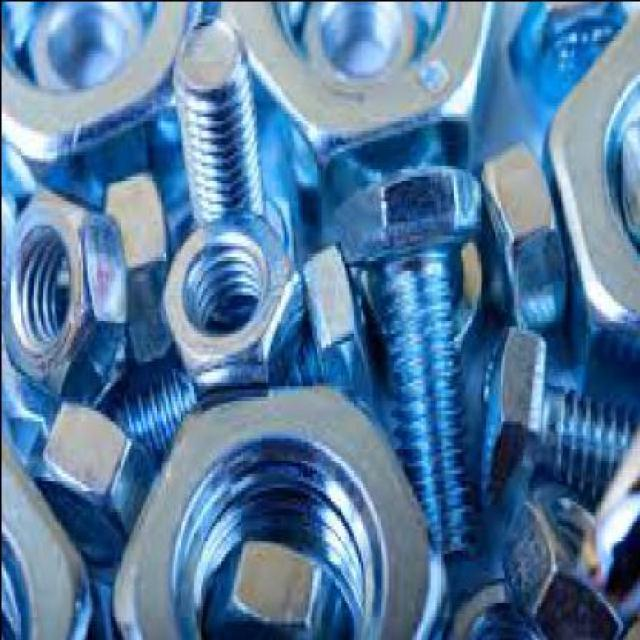METAL: (109, 378, 432, 636), (65, 242, 373, 458), (332, 157, 478, 552), (209, 2, 494, 178), (540, 2, 638, 389), (2, 2, 190, 189), (162, 17, 288, 269), (474, 322, 638, 510), (2, 185, 123, 400), (155, 209, 297, 385), (16, 395, 152, 577), (1, 437, 96, 637), (498, 486, 618, 637), (478, 137, 560, 326), (295, 238, 373, 398), (102, 178, 167, 354), (442, 566, 541, 637)
